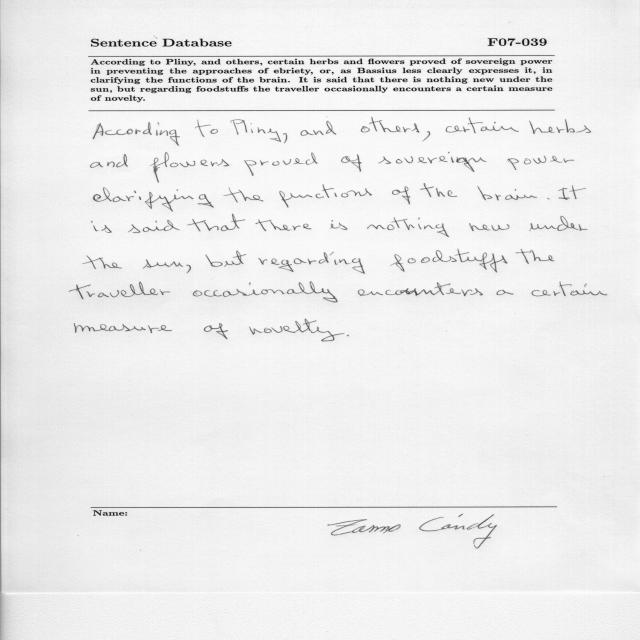word: (193, 282, 338, 303), (93, 187, 214, 212), (391, 249, 508, 273), (150, 152, 229, 183), (258, 252, 365, 274), (379, 152, 487, 172), (279, 185, 372, 208), (249, 319, 345, 341), (93, 122, 180, 146), (244, 152, 318, 176), (358, 282, 483, 296), (361, 117, 430, 142), (69, 282, 170, 299), (367, 217, 449, 237), (231, 119, 281, 142), (532, 282, 608, 297), (188, 214, 246, 231), (74, 323, 172, 333), (507, 156, 574, 170), (529, 119, 591, 134), (530, 216, 588, 231), (478, 186, 538, 200), (468, 118, 519, 134), (206, 250, 247, 267), (256, 219, 312, 231), (128, 220, 179, 233), (224, 188, 264, 203), (516, 249, 555, 264), (301, 121, 337, 136), (91, 154, 128, 168), (83, 256, 121, 269), (420, 184, 457, 197), (559, 185, 587, 200), (143, 259, 184, 269), (195, 120, 218, 137), (204, 323, 228, 339), (341, 154, 362, 172), (469, 223, 510, 231), (392, 186, 410, 204), (92, 221, 112, 233), (330, 220, 348, 230), (446, 126, 470, 133), (496, 290, 514, 295), (186, 265, 191, 274), (284, 133, 288, 143), (547, 198, 550, 200), (347, 335, 349, 336)
